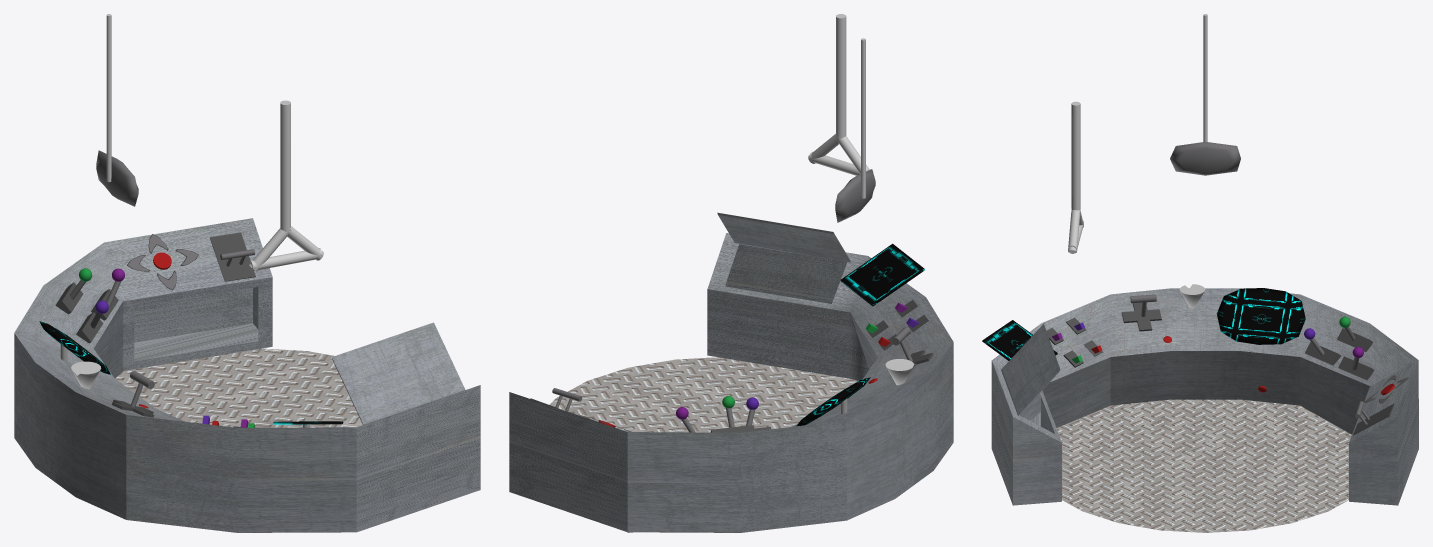
Rendered from cockpit.fbx.
3 renders of one model, left to right at view 1: azimuth 30°, elevation 25°; view 2: azimuth 150°, elevation 25°; view 3: azimuth 270°, elevation 25°, orthographic. The views are drawn at different scales.
Visible parts, largest first — view 1: pCube9, Ground, Lid, pCylinder10, pCube6, pCube10, pCylinder12, pCube2, Holder; view 2: pCube9, Ground, Lid, pCube7, pCylinder10, pCube6, pCylinder12, pCube2, Holder; view 3: pCube9, Ground, pCube2, Lid, pCube6, pCylinder10, pCube7, pCube1, pCylinder12.
Boxes of the visible parts, x1,y1,x2,y2 form: pCube9: (14,218,480,532); Ground: (115,348,362,427); Lid: (332,322,465,424); pCylinder10: (248,100,323,271); pCube6: (96,150,138,206); pCube10: (210,232,255,281); pCylinder12: (106,14,111,182); pCube2: (39,321,110,374); Holder: (71,361,101,389); pCube9: (509,233,953,532); Ground: (549,357,858,432); Lid: (717,212,850,262); pCube7: (840,243,924,306); pCylinder10: (808,14,873,175); pCube6: (835,169,875,222); pCylinder12: (861,38,865,198); pCube2: (796,377,870,426); Holder: (885,359,913,385); pCube9: (991,288,1418,505); Ground: (1056,399,1351,532); pCube2: (1216,288,1305,344); Lid: (1001,324,1060,415); pCube6: (1170,141,1240,175); pCylinder10: (1068,101,1083,253); pCube7: (982,320,1057,360); pCube1: (1121,302,1161,331); pCylinder12: (1203,14,1207,141).
Bounding box in the file's own units: 28.65 × 33.14 × 34.07.
